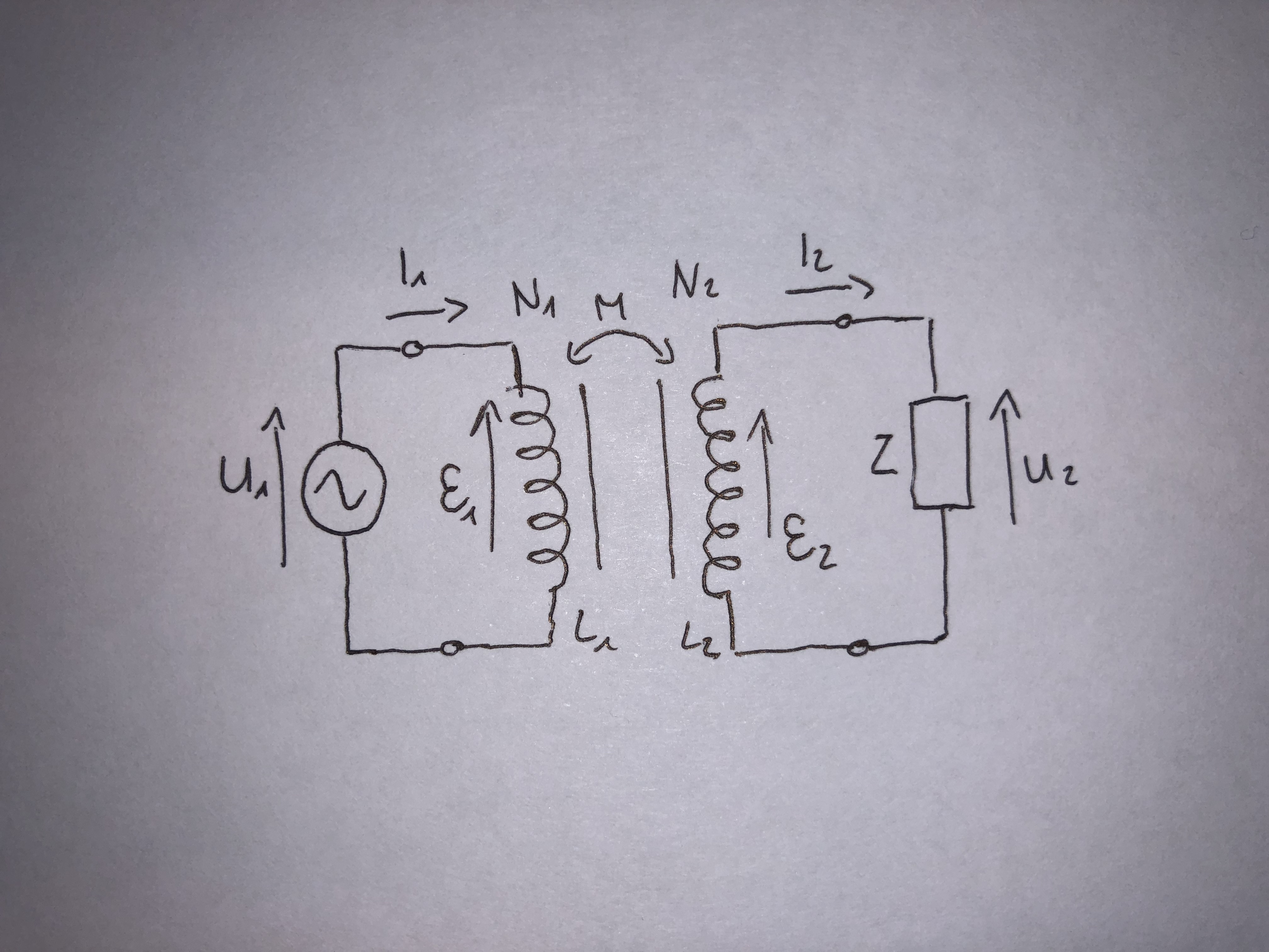explanatory: (468, 396, 504, 555), (258, 405, 290, 571), (987, 387, 1023, 526), (746, 406, 776, 541), (783, 271, 876, 303), (383, 294, 469, 327)
inductor: (508, 381, 577, 596), (686, 371, 745, 598)
junction: (933, 627, 954, 648), (706, 319, 727, 340), (725, 641, 747, 661), (916, 311, 938, 331), (326, 341, 345, 361), (502, 336, 521, 355), (539, 635, 558, 653), (340, 642, 358, 660)
magnetic: (578, 374, 679, 589)
resistor: (907, 391, 979, 514)
text: (782, 513, 839, 570), (439, 462, 481, 529), (217, 454, 270, 500), (670, 257, 721, 302), (573, 607, 621, 652), (1020, 452, 1080, 488), (510, 277, 559, 320), (797, 226, 835, 276), (678, 619, 721, 662), (397, 245, 430, 289), (869, 432, 900, 478), (593, 291, 629, 323)
transformer: (503, 369, 747, 602)
voltage.ac: (297, 438, 390, 538)
